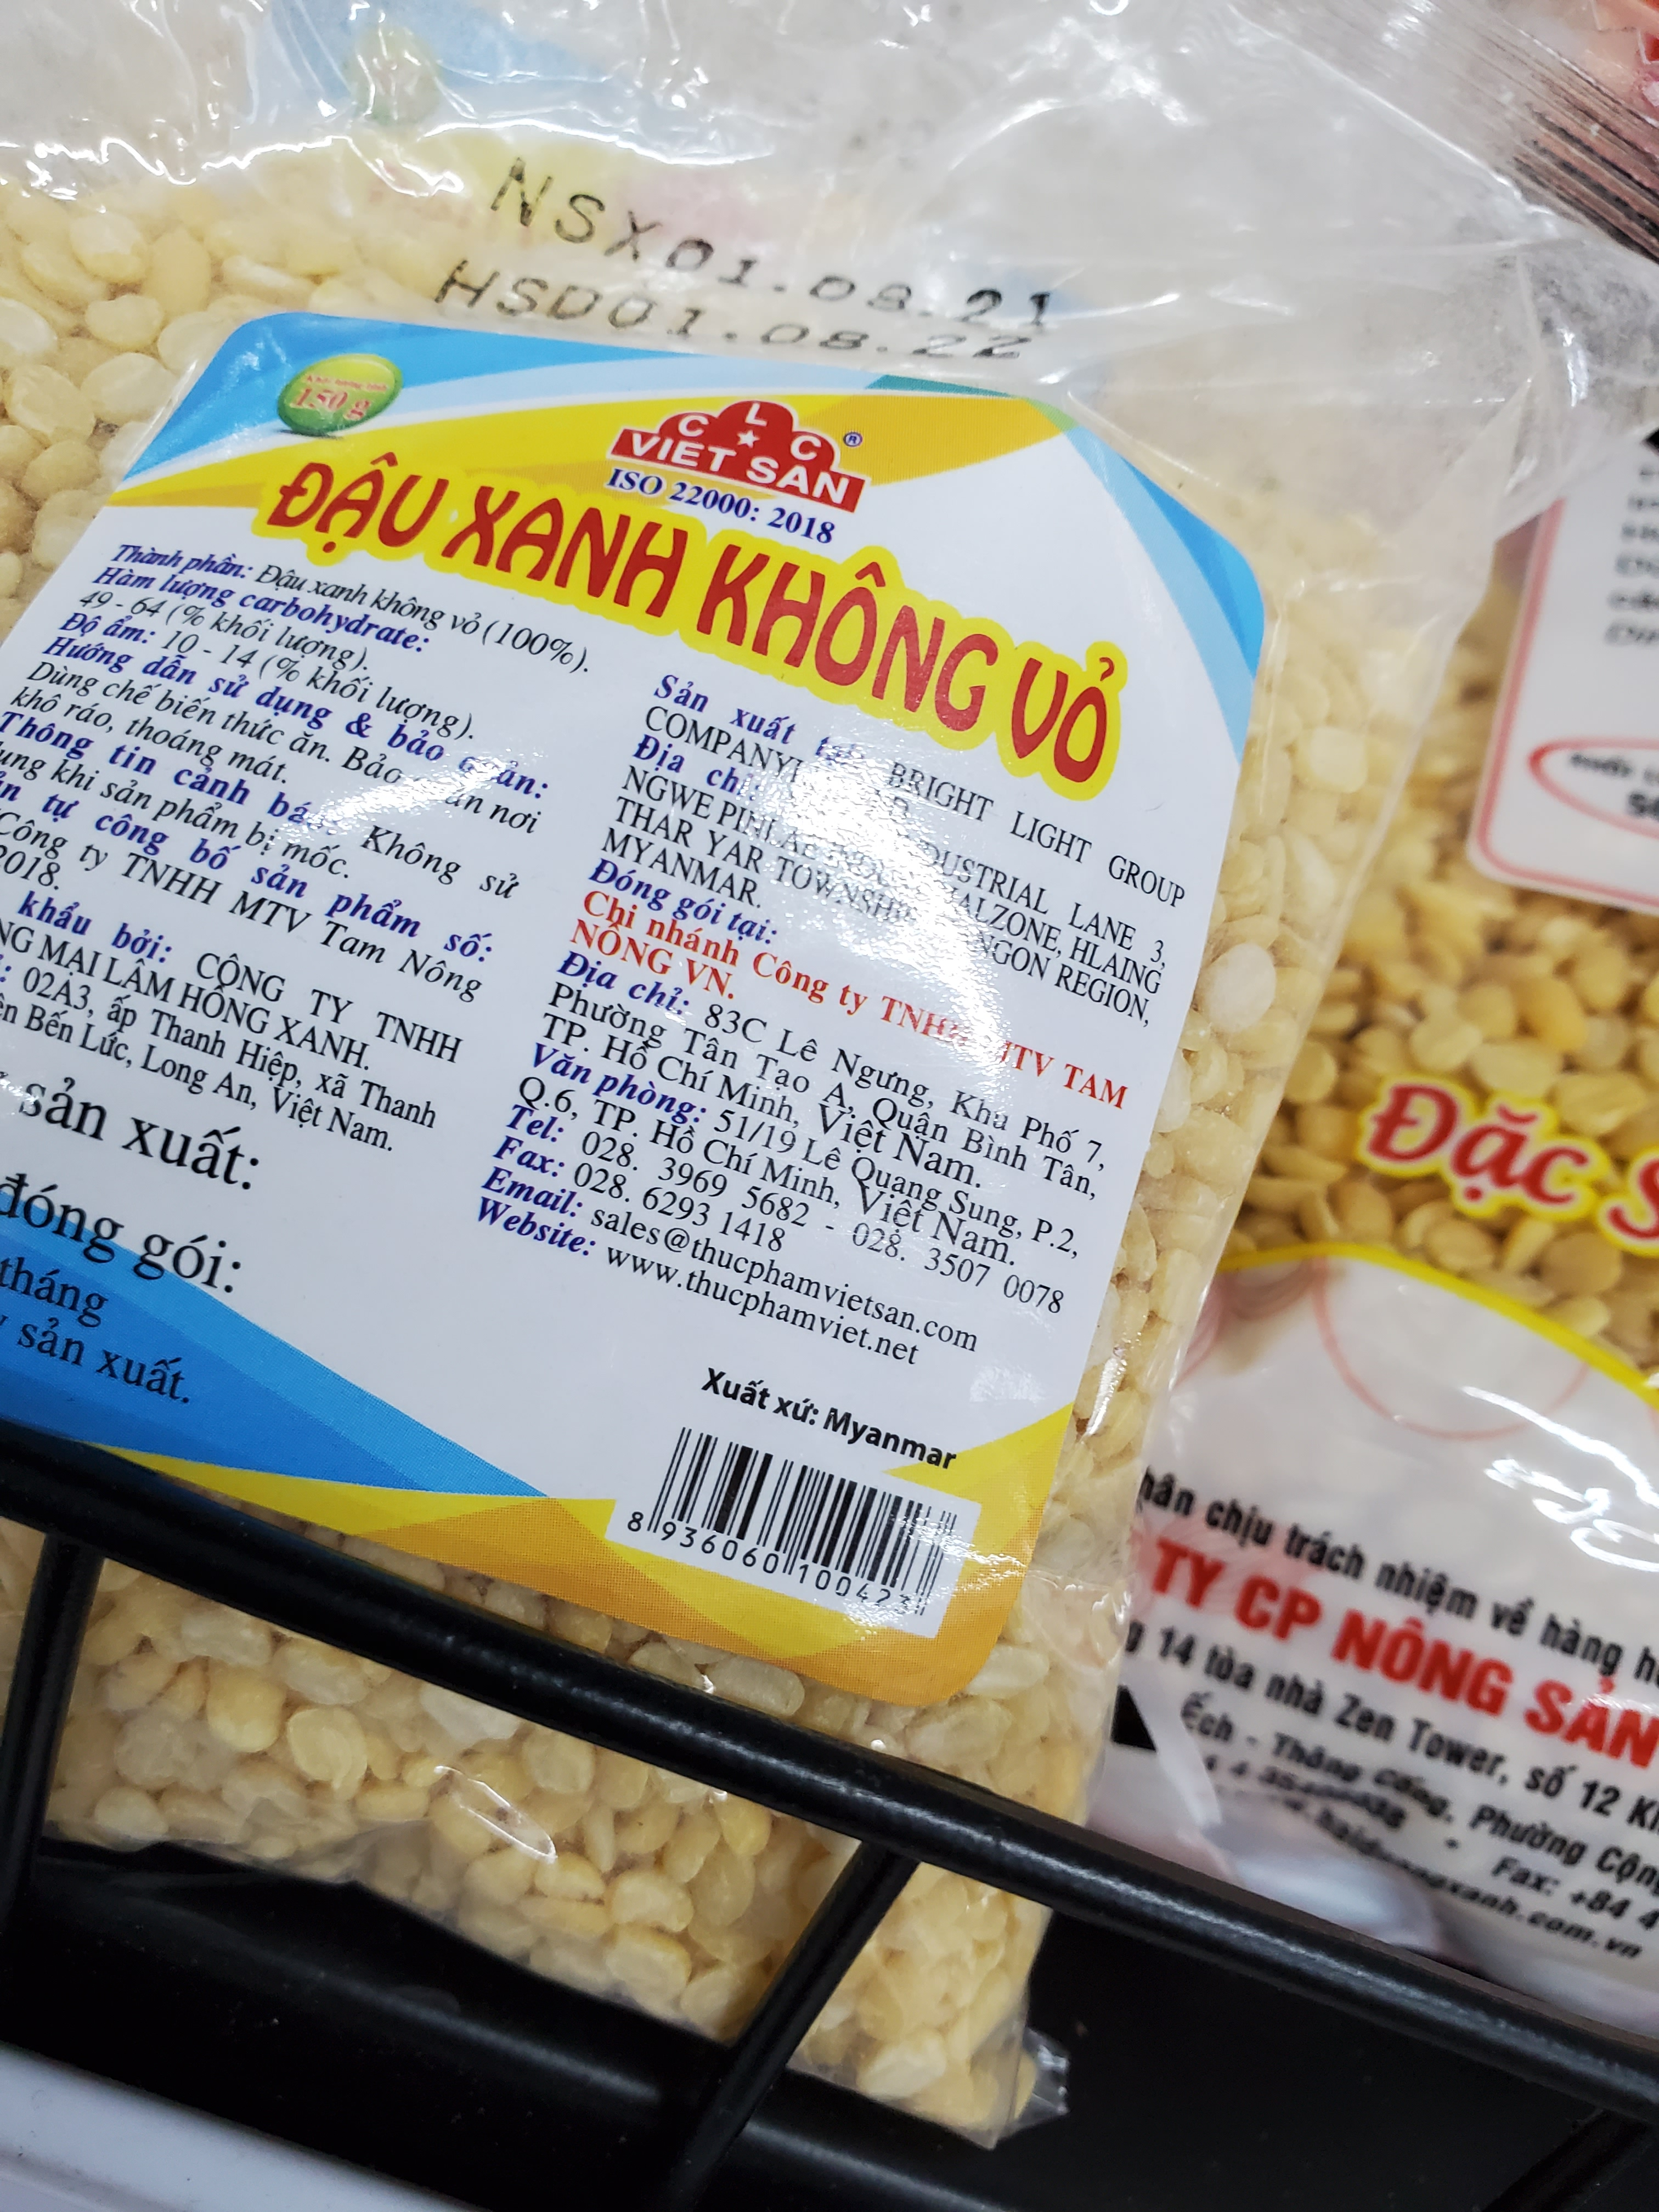barcode: (584, 1416, 971, 1651)
